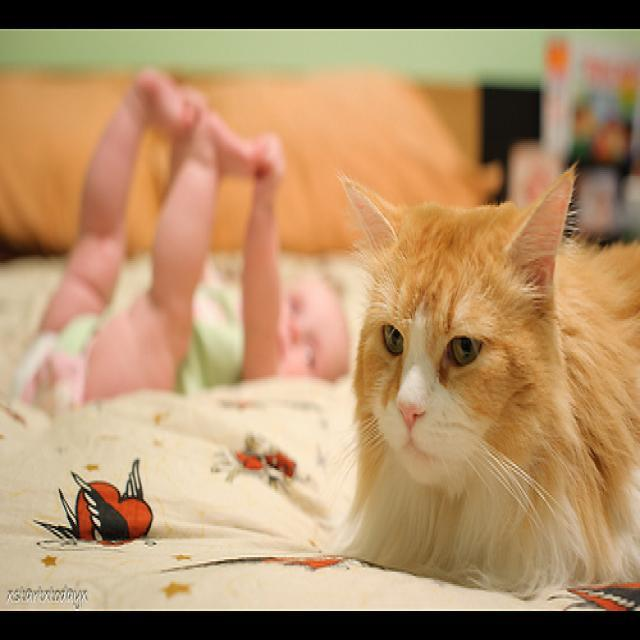Maine_Coon: (336, 165, 592, 592)
